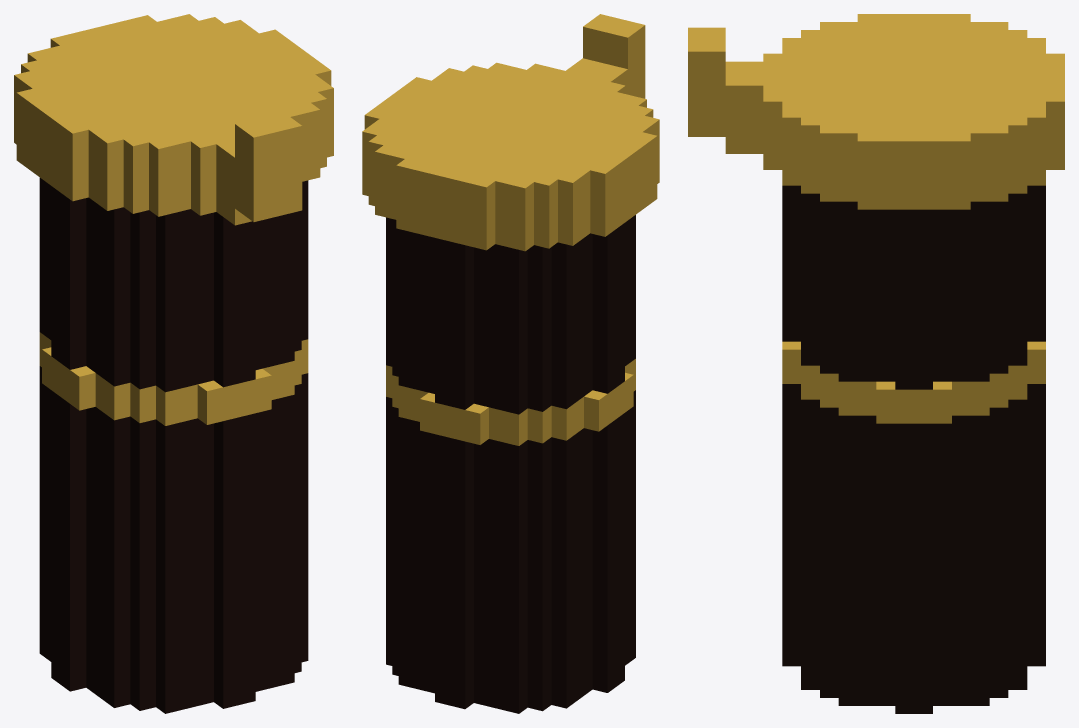
The model's file is leather_legendary_boot_shin_L.glb.
3 views of the same model, side by side, from view 1: azimuth 30°, elevation 25°; view 2: azimuth 150°, elevation 25°; view 3: azimuth 270°, elevation 25° (orthographic). The views are drawn at different scales.
Visible parts, largest first — view 1: leather_legendary_boot_shin_L; view 2: leather_legendary_boot_shin_L; view 3: leather_legendary_boot_shin_L.
Boxes of the visible parts, x1=… form: leather_legendary_boot_shin_L: x1=14, y1=14, x2=333, y2=713; leather_legendary_boot_shin_L: x1=362, y1=14, x2=659, y2=713; leather_legendary_boot_shin_L: x1=688, y1=14, x2=1064, y2=713.
Size of the model in its own units: 0.192 by 0.432 by 0.24.
